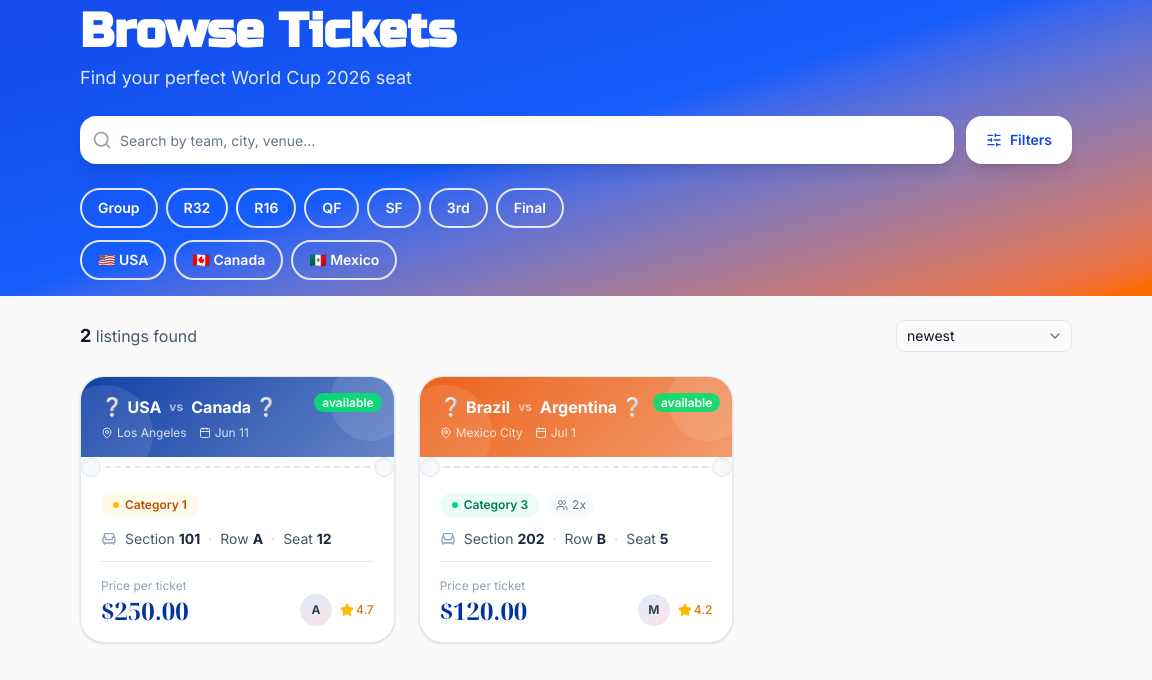
it: BrowsePage › filters by location chip
Click the button with test id "location-chip-Mexico" at x=344, y=260, box [291,240,397,280]
(page scrolled)
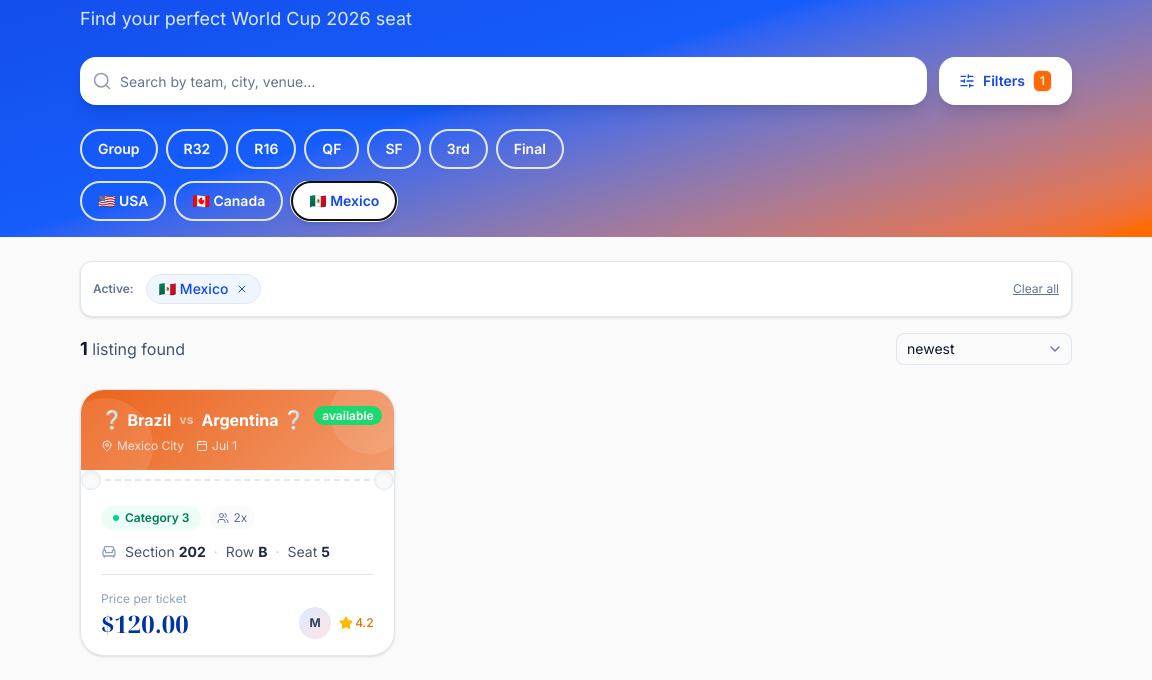
Expected: the link "Section 202" is shown, [80,389,395,656]
Expected: the element with test id "results-count" reads "1 listing found", [80,335,185,363]
